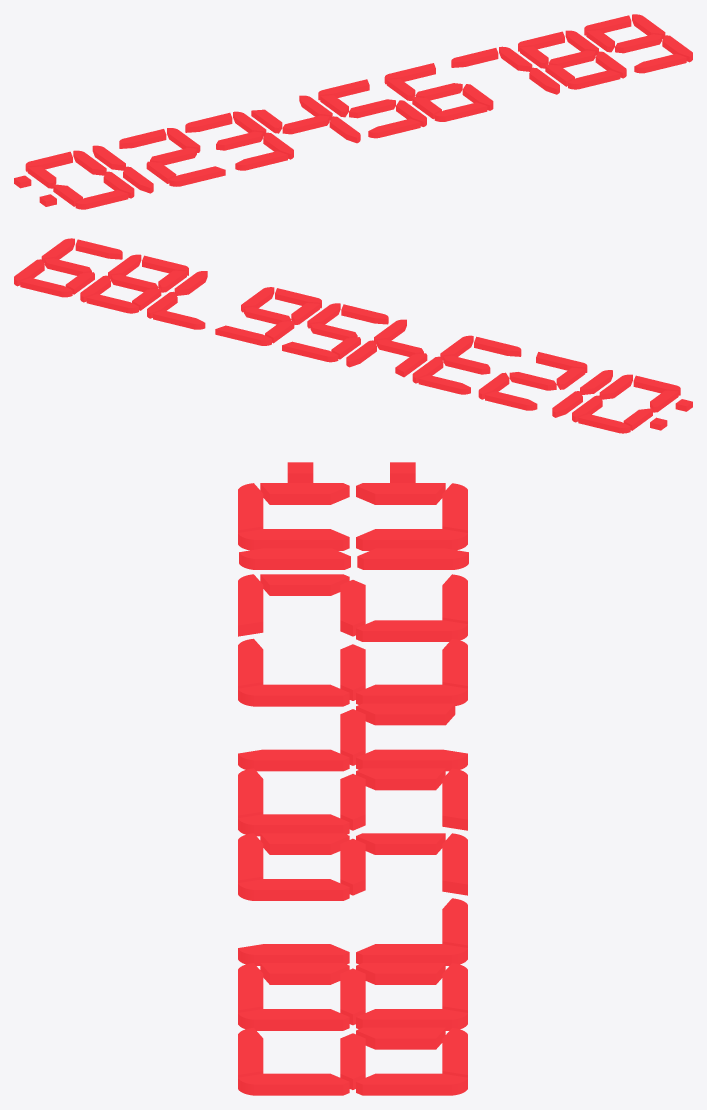
The model's file is digital_clock.glb.
3 renders of one model, top to bottom at view 1: azimuth 30°, elevation 25°; view 2: azimuth 150°, elevation 25°; view 3: azimuth 270°, elevation 25°, orthographic. The views are drawn at different scales.
Parts seen in each view (by area): view 1: Number8, Number9, Number6, Number0, Number3, Number2, Number5, Number4, Number7, Number1, Dots; view 2: Number8, Number9, Number6, Number0, Number3, Number2, Number5, Number4, Number7, Number1, Dots; view 3: Number8, Number0, Number9, Number6, Number3, Number2, Number5, Number4, Number7, Number1, Dots.
Boxes of the visible parts, x1,y1,x2,y2 form: Number8: (518,30,626,89); Number9: (584,14,692,73); Number6: (384,63,493,121); Number0: (25,150,134,209); Number3: (185,111,293,170); Number2: (119,128,225,186); Number5: (318,79,426,138); Number4: (251,95,360,143); Number7: (451,46,559,94); Number1: (92,145,153,193); Dots: (14,175,56,206); Number8: (80,254,188,313); Number9: (14,238,122,297); Number6: (215,287,321,345); Number0: (572,374,680,433); Number3: (412,335,521,394); Number2: (478,352,587,410); Number5: (282,303,388,362); Number4: (346,319,427,377); Number7: (147,271,207,329); Number1: (552,370,612,417); Dots: (650,399,692,430); Number8: (238,963,467,1030); Number0: (238,483,467,550); Number9: (238,1027,467,1095); Number6: (238,833,467,900); Number3: (238,638,467,706); Number2: (238,574,467,641); Number5: (238,768,467,836); Number4: (238,703,467,771); Number7: (238,898,467,965); Number1: (239,548,468,569); Dots: (287,462,415,482).
Size of the model in its own units: 4.8 by 0.0401 by 0.7535.
